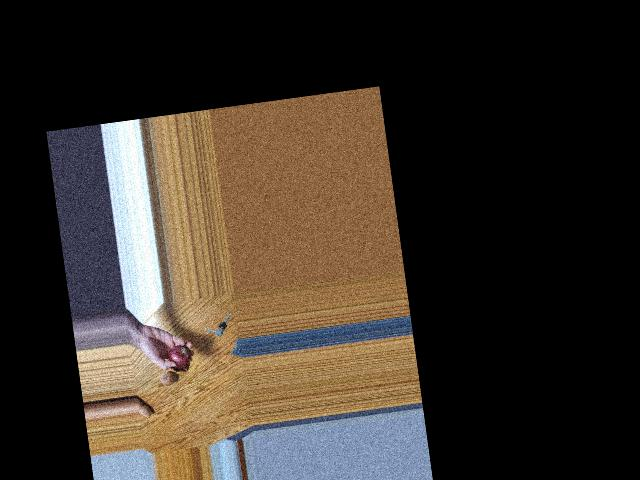onion: (157, 370, 174, 388)
